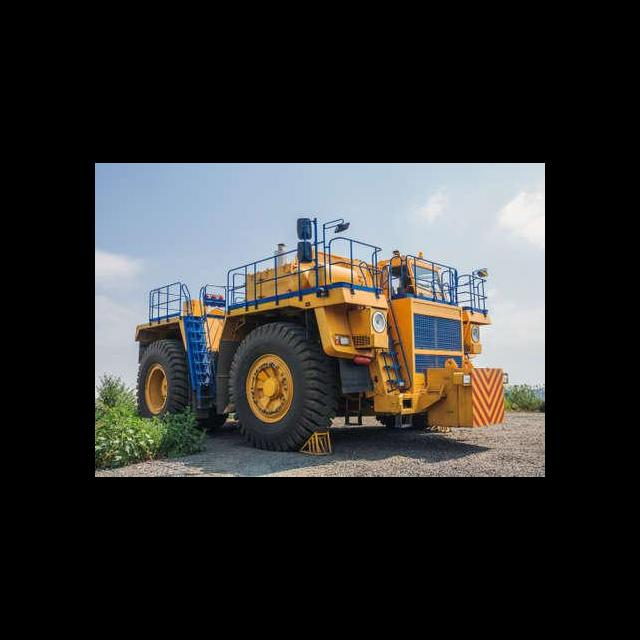dump truck: (135, 217, 511, 458)
